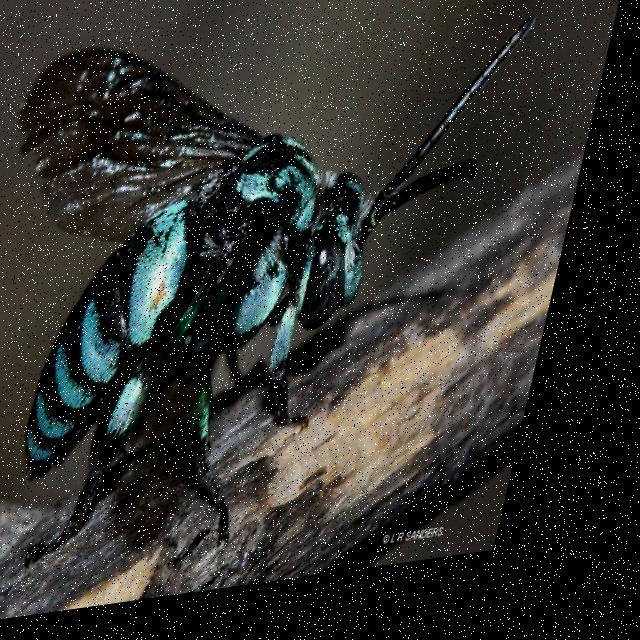Thyreus: (0, 0, 560, 592)
